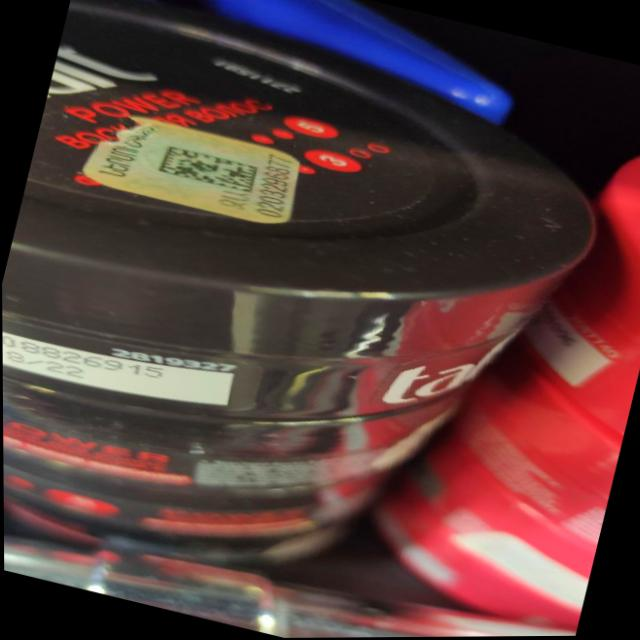datamatrix: (156, 142, 264, 197)
